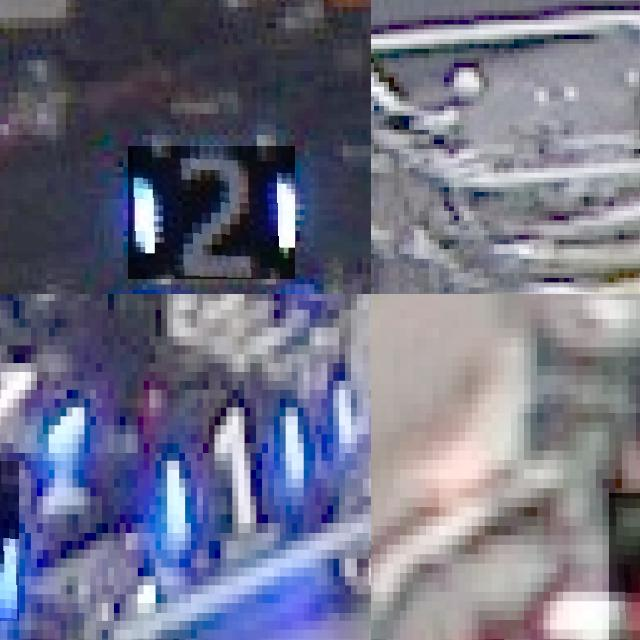B1: (156, 398, 304, 550), (0, 345, 90, 460)
B2: (128, 146, 295, 279)
